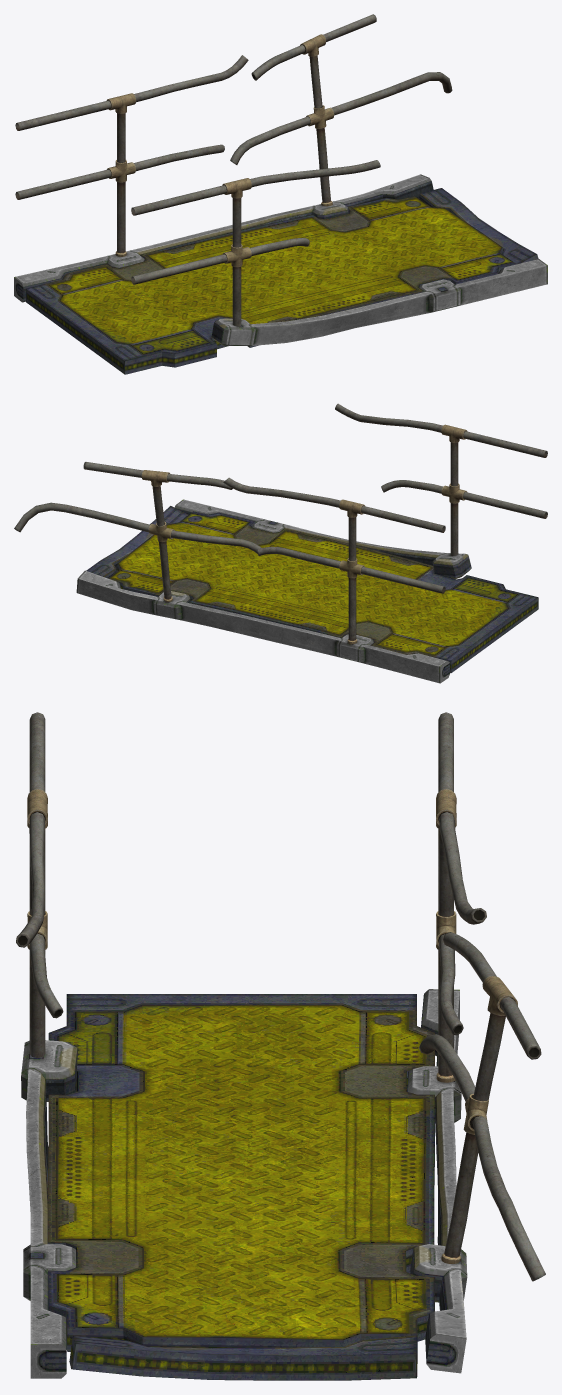
The model's file is 01_02_catwalk_collapse_straight.dae.
The picture shows the model from 3 angles, top to bottom: view 1: azimuth 30°, elevation 25°; view 2: azimuth 150°, elevation 25°; view 3: azimuth 270°, elevation 25°; orthographic projection. The views are drawn at different scales.
Visible parts, largest first — view 1: catwalk_straight_broken, side1, handrail_piece1, handrail_piece3, handrail_piece2, side2, catwalk_end_piece; view 2: catwalk_straight_broken, side2, handrail_piece1, handrail_piece2, handrail_piece3, side1, catwalk_end_piece; view 3: catwalk_straight_broken, catwalk_end_piece, handrail_piece2, side1, side2, handrail_piece1, handrail_piece3.
Part boxes in pixels (bbox=[...]): catwalk_straight_broken: bbox=[26, 196, 515, 374]; side1: bbox=[211, 259, 547, 345]; handrail_piece1: bbox=[15, 55, 248, 256]; handrail_piece3: bbox=[131, 160, 380, 326]; handrail_piece2: bbox=[230, 14, 452, 206]; side2: bbox=[14, 174, 433, 302]; catwalk_end_piece: bbox=[419, 188, 538, 264]; catwalk_straight_broken: bbox=[109, 511, 538, 673]; side2: bbox=[76, 570, 449, 683]; handrail_piece1: bbox=[223, 477, 445, 644]; handrail_piece2: bbox=[14, 462, 261, 601]; handrail_piece3: bbox=[335, 403, 547, 556]; side1: bbox=[174, 499, 471, 578]; catwalk_end_piece: bbox=[86, 506, 188, 578]; catwalk_straight_broken: bbox=[47, 994, 435, 1351]; catwalk_end_piece: bbox=[69, 1335, 417, 1380]; handrail_piece2: bbox=[419, 932, 545, 1281]; side1: bbox=[21, 1040, 78, 1378]; side2: bbox=[407, 989, 467, 1373]; handrail_piece1: bbox=[436, 712, 486, 1082]; handrail_piece3: bbox=[16, 712, 63, 1058].
Size of the model in its own units: 4.45 by 1.68 by 2.51.
